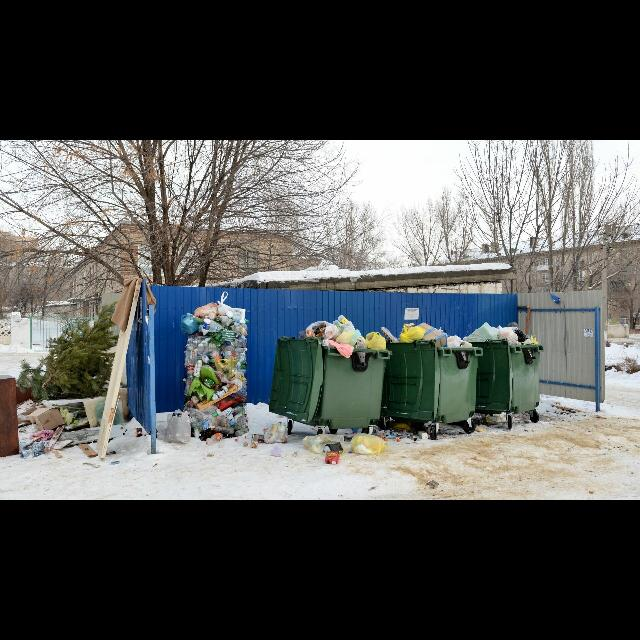Trash_Can_Full: (386, 322, 484, 424), (310, 315, 394, 430), (464, 321, 543, 414)
